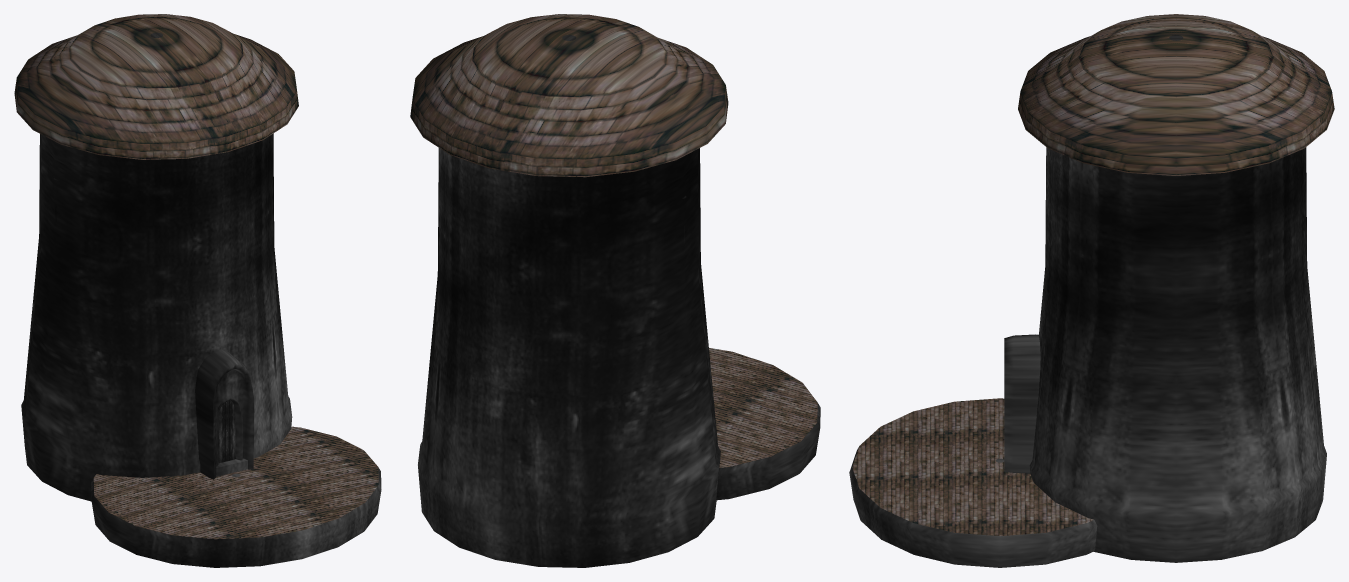
File: diabelny_dwor_p1.FBX
3 views of the same model, side by side, from view 1: azimuth 30°, elevation 25°; view 2: azimuth 150°, elevation 25°; view 3: azimuth 270°, elevation 25° (orthographic). The views are drawn at different scales.
Parts seen in each view (by area): view 1: mesh01, Object002; view 2: mesh01, Object002; view 3: mesh01, Object002.
Boxes of the visible parts, box(x1,y1,x2,y2) form: mesh01: box(21, 32, 381, 567); Object002: box(14, 14, 378, 539); mesh01: box(418, 35, 820, 567); Object002: box(410, 14, 817, 467); mesh01: box(849, 35, 1326, 567); Object002: box(852, 14, 1334, 536).
Size of the model in its own units: 11.08 by 16.17 by 17.04.
2 materials, 2 textured.
